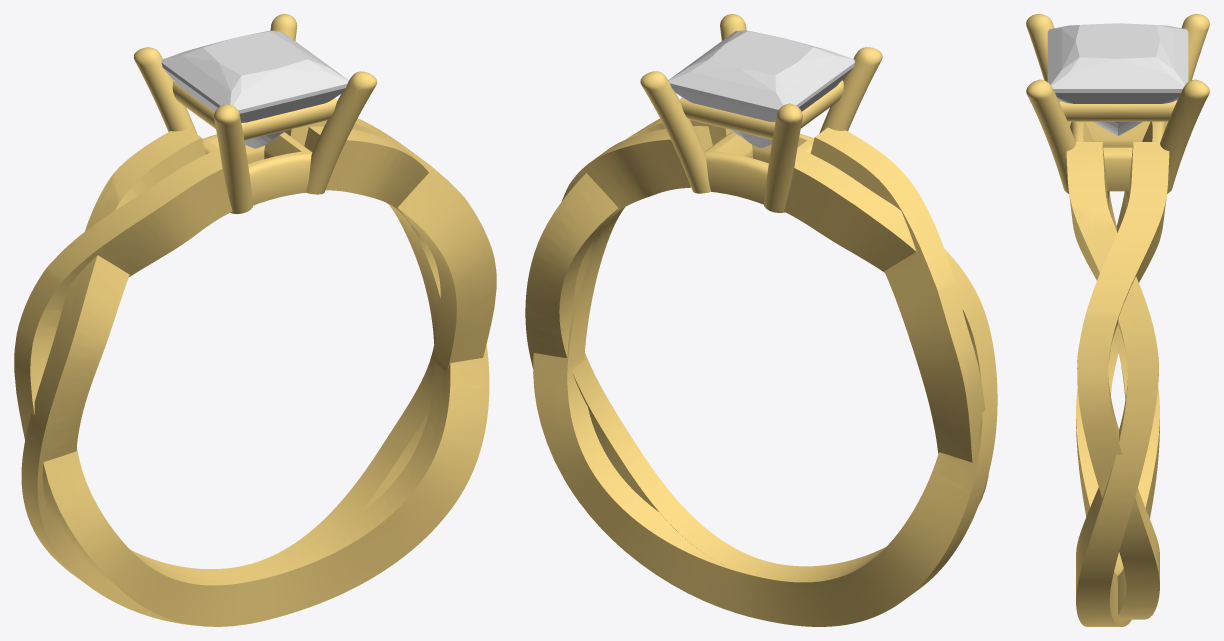
The model's file is diamond-princess-yellowgold-4prong-twist-nosidestones.glb.
The picture shows the model from 3 angles, left to right: view 1: azimuth 30°, elevation 25°; view 2: azimuth 150°, elevation 25°; view 3: azimuth 270°, elevation 25°; orthographic projection.
Visible parts, largest first — view 1: metal, stone; view 2: metal, stone; view 3: metal, stone.
Boxes of the visible parts, x1,y1,x2,y2 form: metal: [14, 14, 496, 626]; stone: [161, 30, 348, 148]; metal: [525, 14, 997, 626]; stone: [668, 30, 854, 147]; metal: [1026, 14, 1209, 626]; stone: [1047, 23, 1188, 135].
Bounding box in the file's own units: 19.97 × 23.76 × 7.08.
